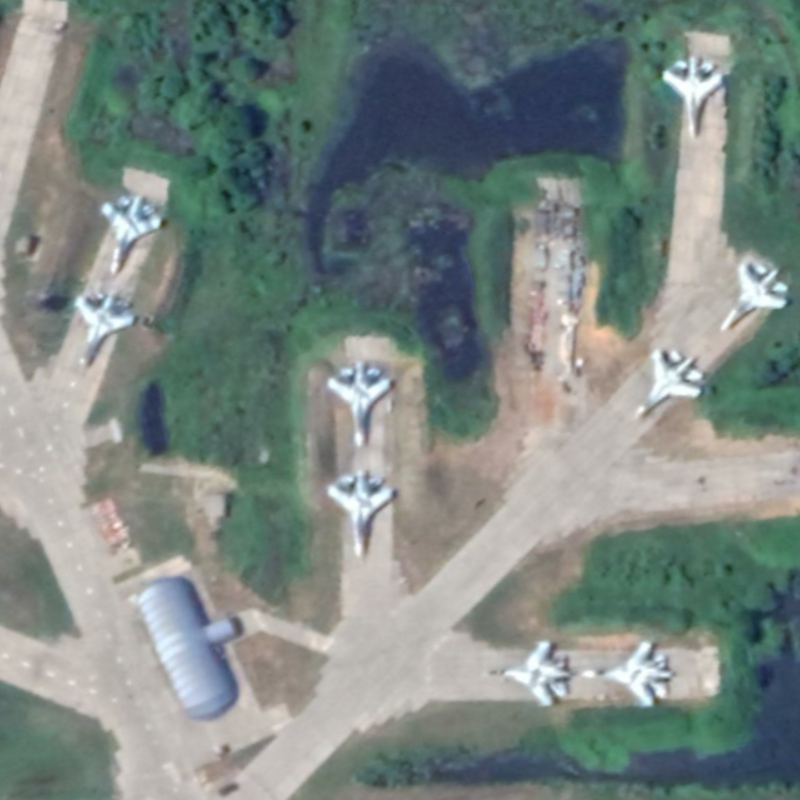A1: (580, 638, 678, 710), (323, 466, 396, 562), (486, 639, 575, 710), (324, 359, 393, 450), (94, 193, 163, 279), (659, 54, 726, 141), (716, 258, 790, 335), (631, 346, 706, 421), (72, 285, 138, 370)
